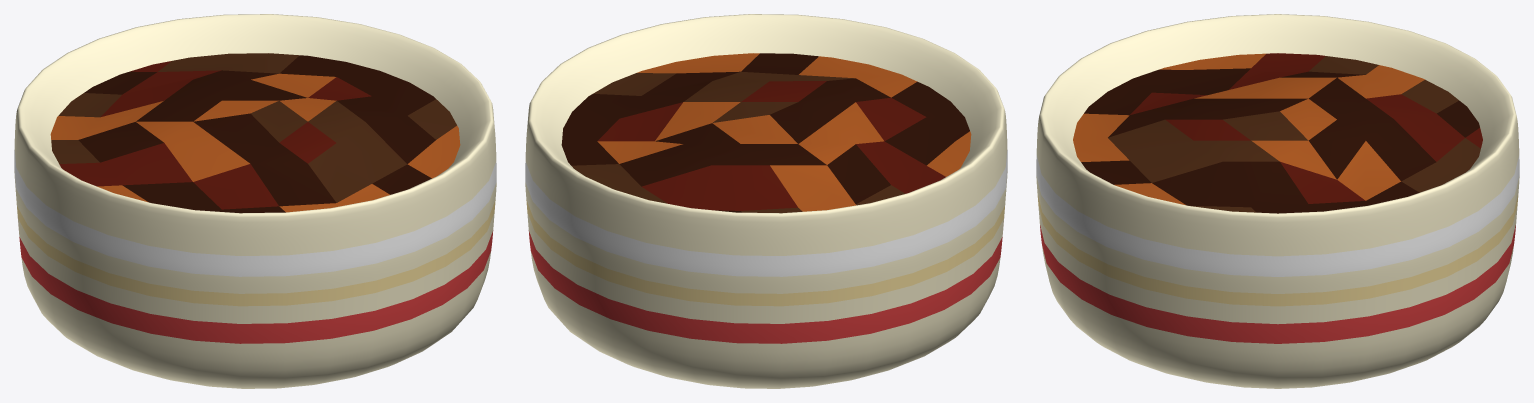
File: beef.fbx
3 views of the same model, side by side, from view 1: azimuth 30°, elevation 25°; view 2: azimuth 150°, elevation 25°; view 3: azimuth 270°, elevation 25° (orthographic).
Parts seen in each view (by area): view 1: pDisc3; view 2: pDisc3; view 3: pDisc3.
Part boxes in pixels (x1=…): pDisc3: x1=14, y1=14, x2=496, y2=388; pDisc3: x1=525, y1=14, x2=1007, y2=388; pDisc3: x1=1036, y1=14, x2=1519, y2=388.
Bounding box in the file's own units: 8.64 × 4.72 × 8.64.
